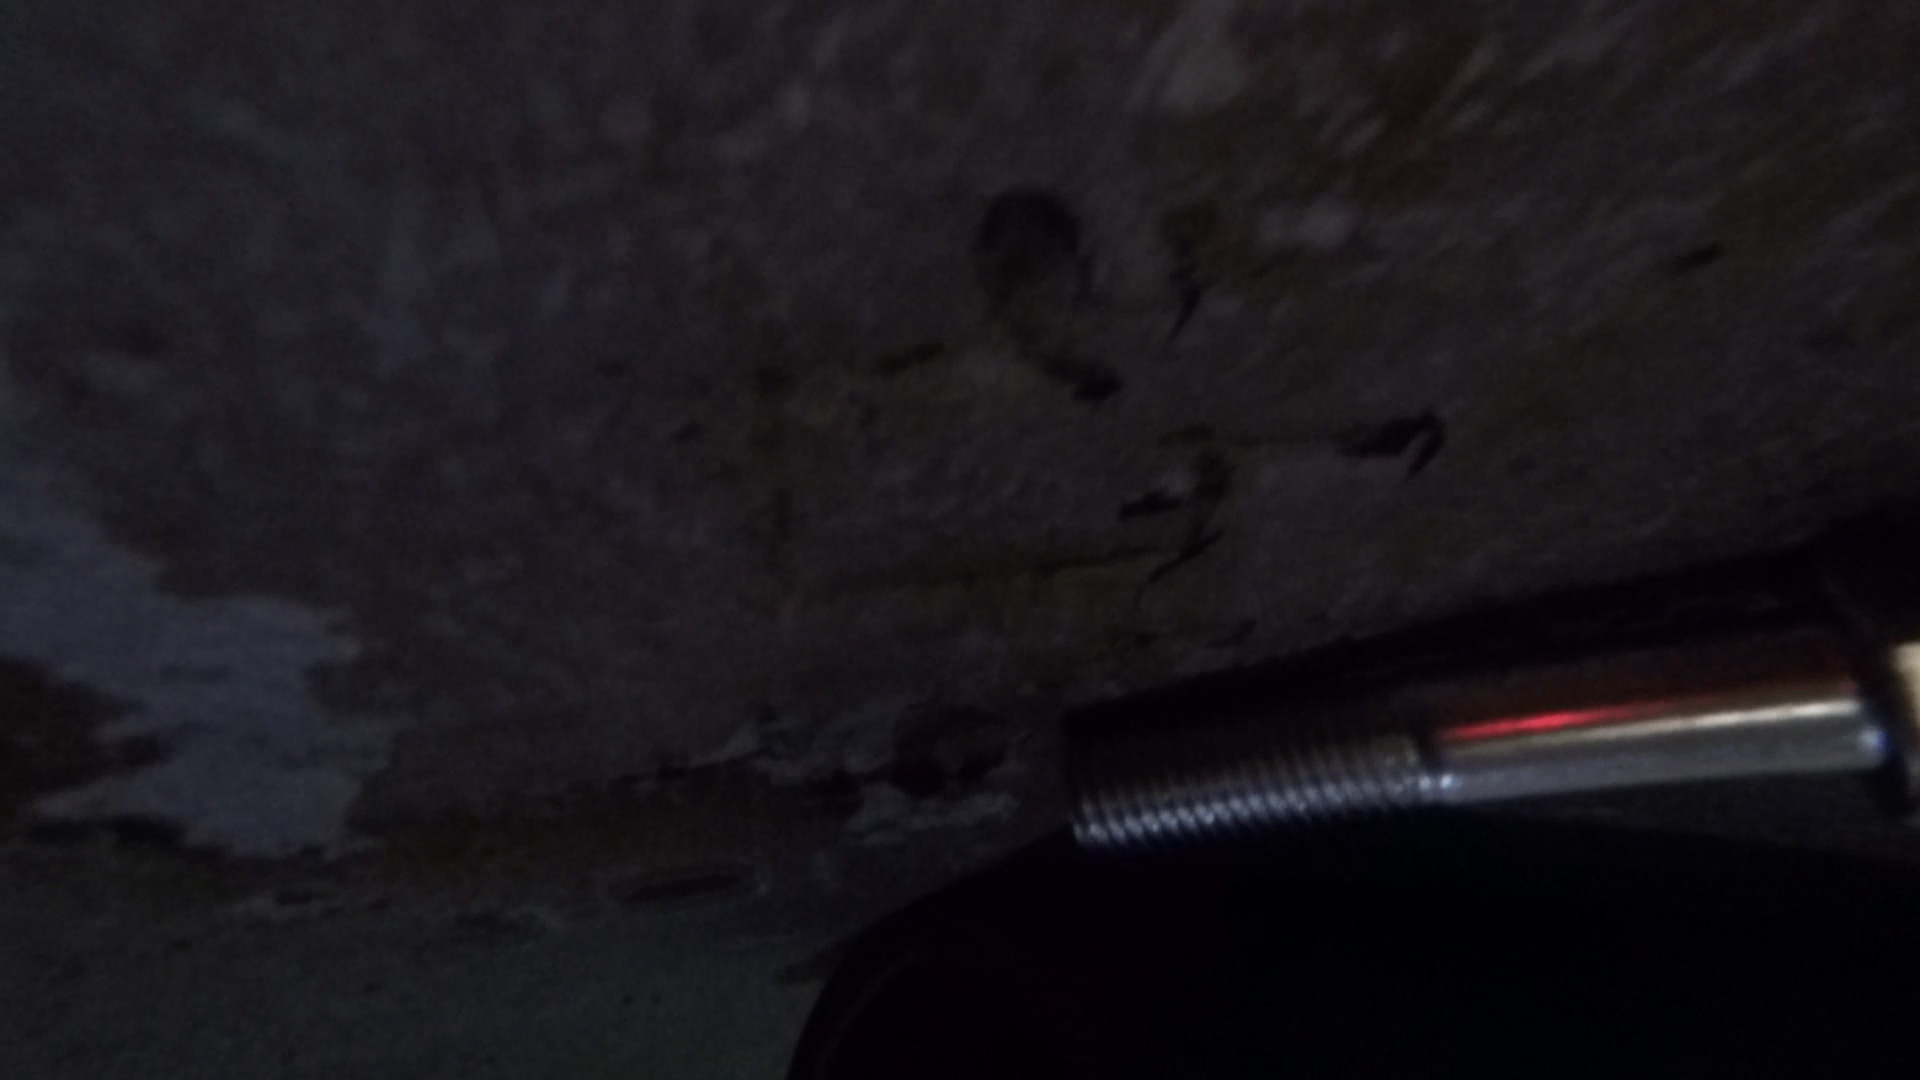bolt: (1044, 542, 1920, 852)
pipe: (771, 833, 1857, 1080)
